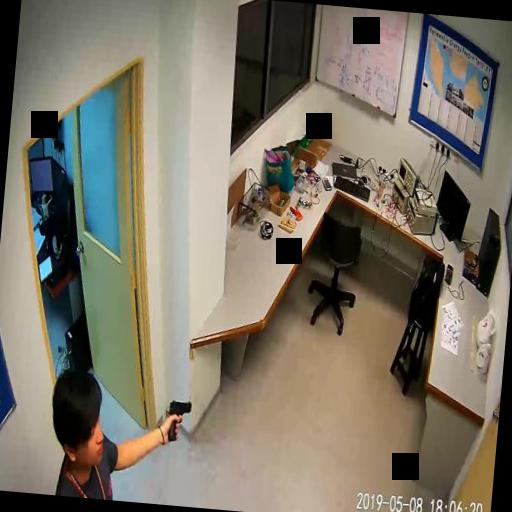Handgun: (164, 397, 190, 442)
